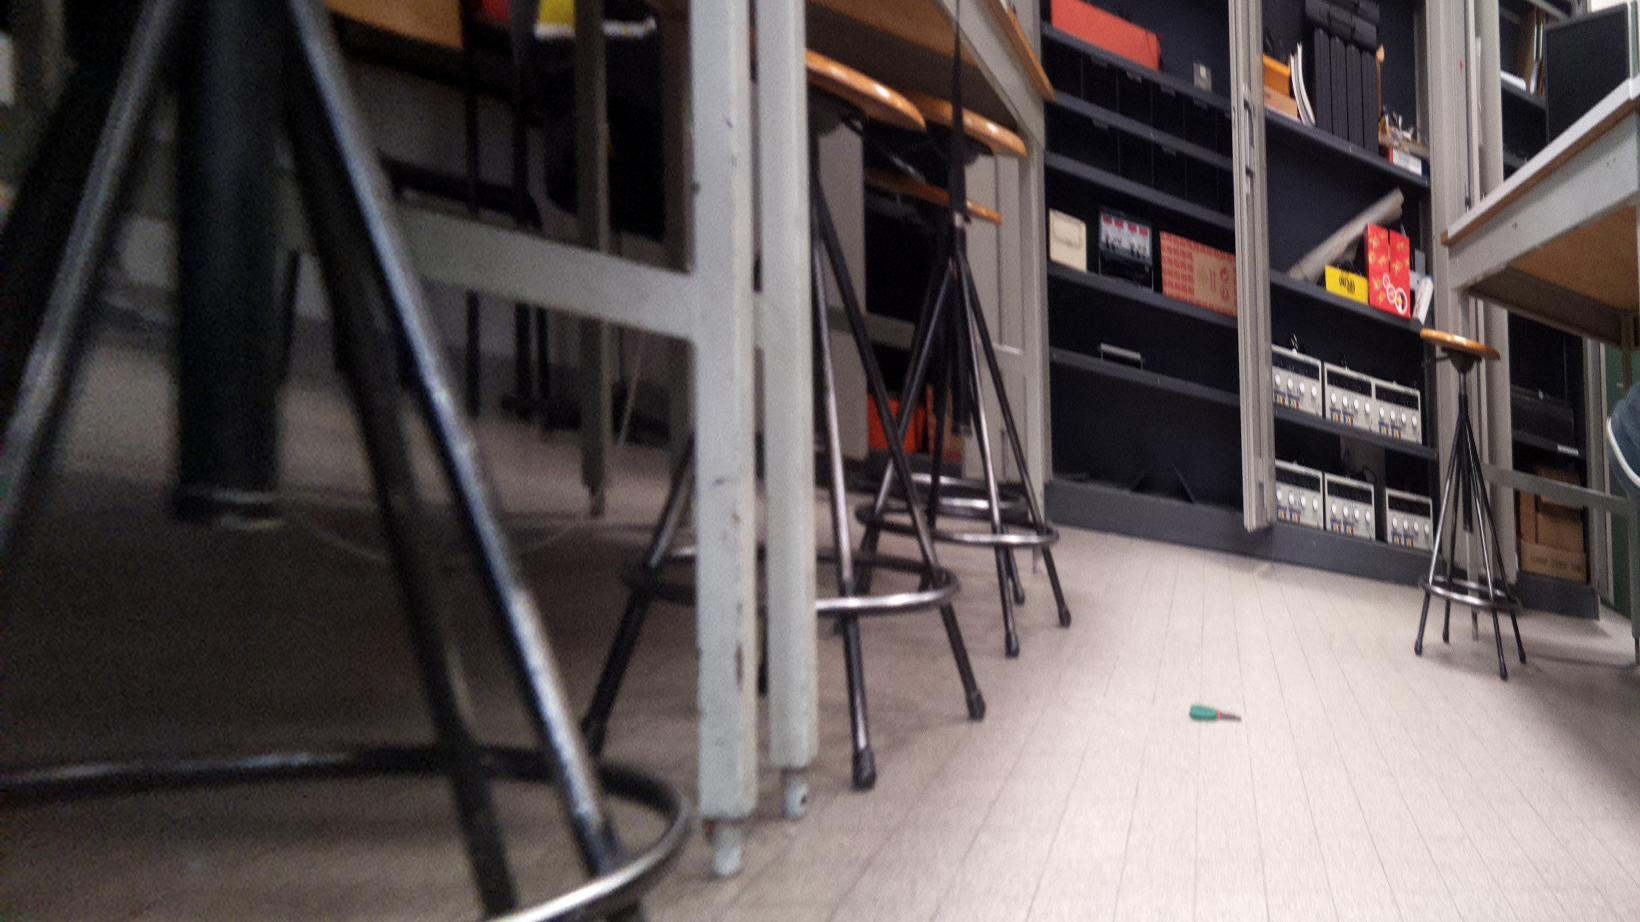small: (1186, 697, 1244, 729)
